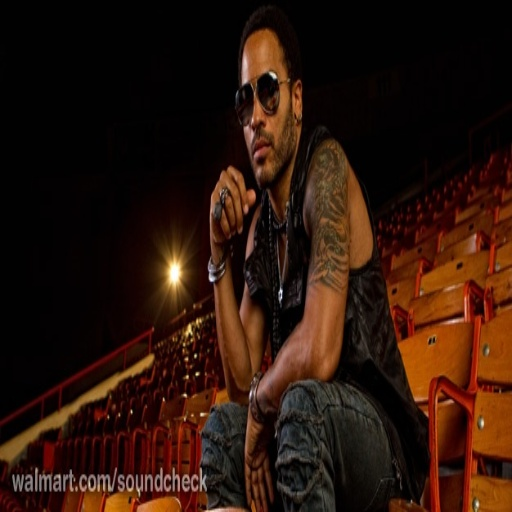hand: (241, 387, 273, 510), (211, 174, 246, 250)
